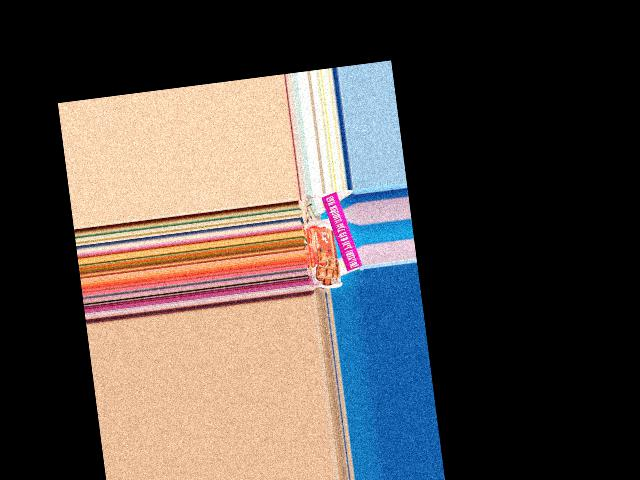chocolate: (303, 216, 343, 292)
